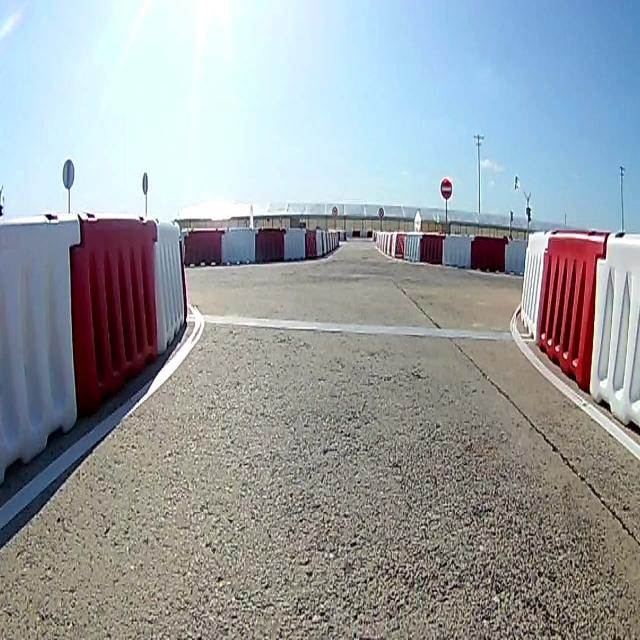girisyok: (441, 176, 454, 203)
